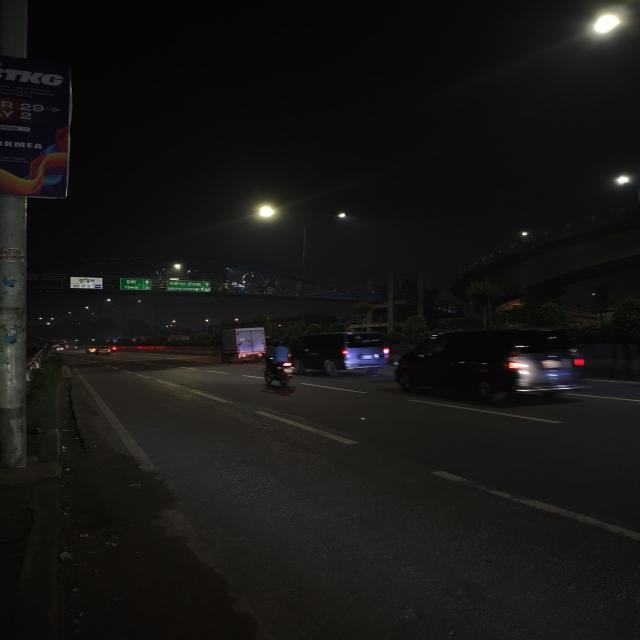car: (393, 326, 592, 408), (296, 329, 396, 378), (91, 344, 113, 358)
motorcycle: (260, 339, 300, 390)
truck: (218, 327, 264, 361)
